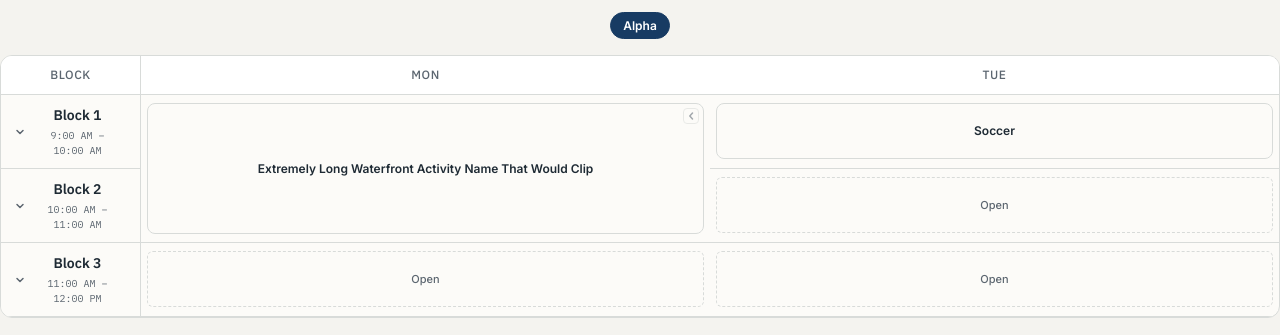
ScheduleGroupView — CSS Grid conversion (T54) › T112 — double-click on an empty cell opens the inline editor
This screenshot has width=1280, height=335.
Double-click the 2nd cell "Open" at (426, 280), box 141,243 -> 710,317
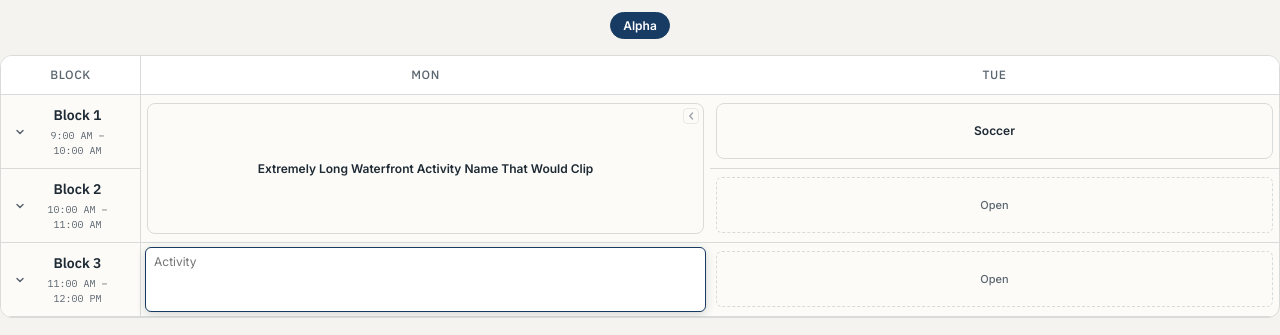
Now the field with class "cell-inline-editor-input" is shown, box 146,248 -> 705,275
